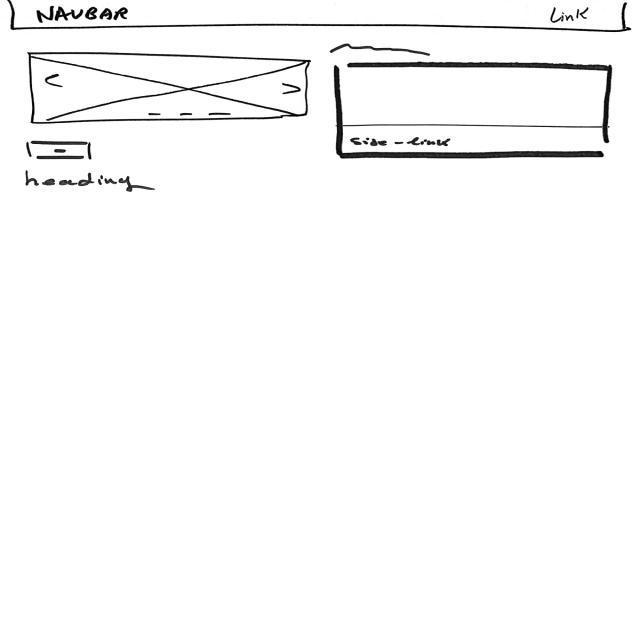container: (331, 59, 613, 165), (6, 1, 634, 33)
icon-button: (22, 136, 96, 167)
image: (25, 51, 311, 124)
label: (21, 171, 156, 199), (28, 5, 138, 26), (349, 134, 456, 152), (545, 6, 595, 27)
text: (325, 42, 437, 58)
